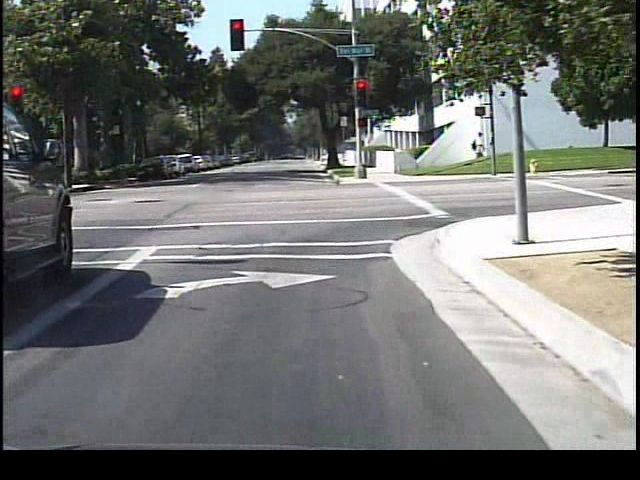person: (465, 128, 489, 172)
